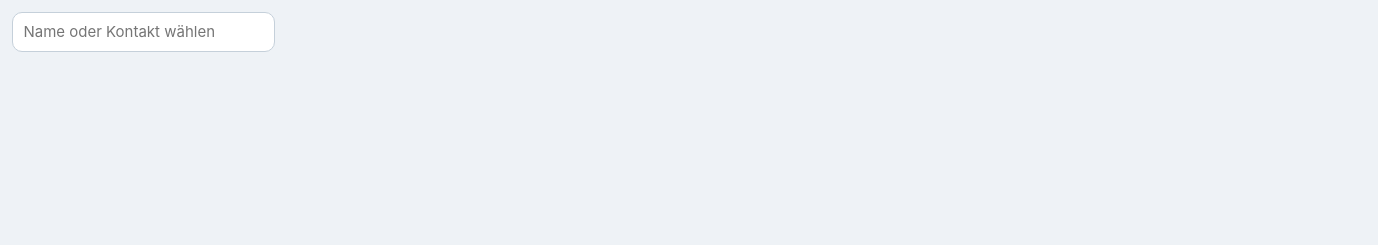
it: Personenfeld mit Kontaktvorschlägen › Pfeiltasten wählen, Escape schließt
Later steps or results of the test are not shown.
Focus the dropdown: (144, 32) [12, 12, 275, 52]
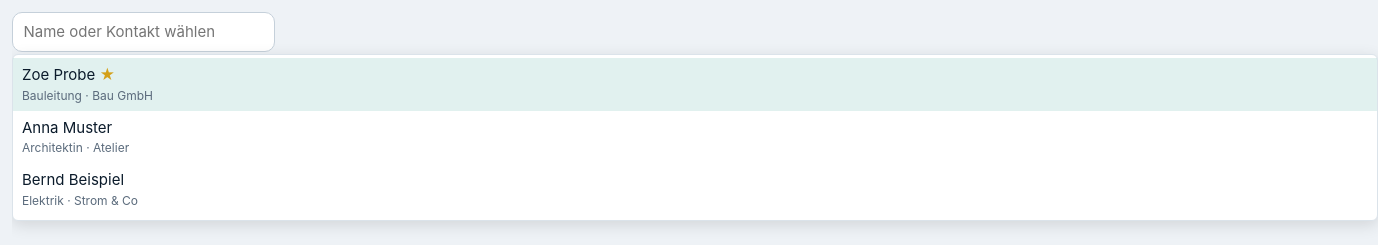
Press ArrowDown in the dropdown, box [12, 12, 275, 52]
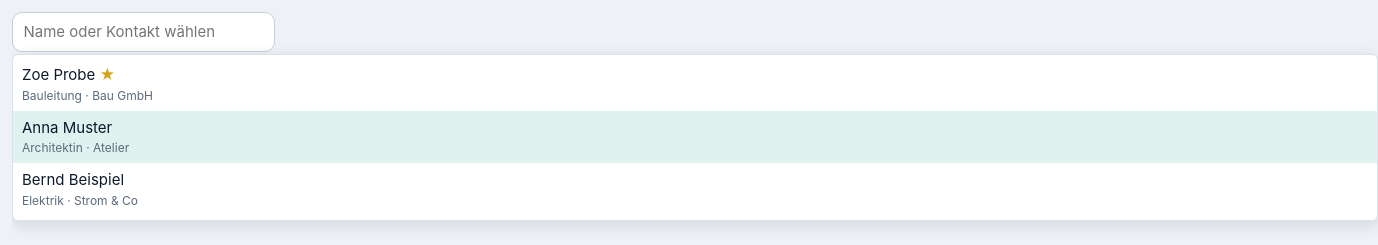
Press Enter in the dropdown, box [12, 12, 275, 52]
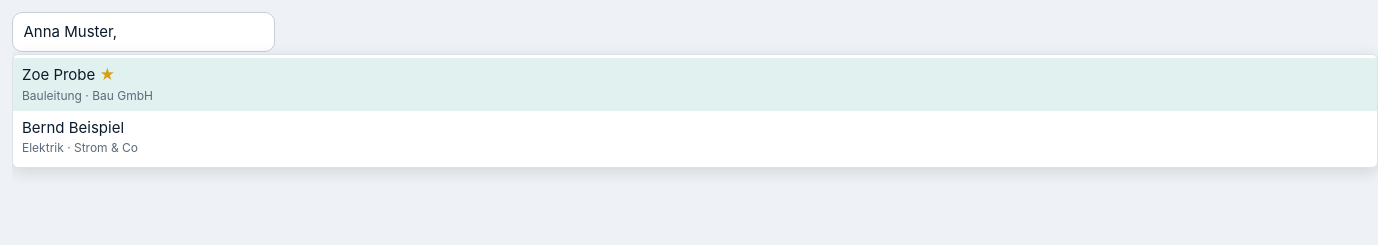
Check: the dropdown holds "Anna Muster, ", box [12, 12, 275, 52]
